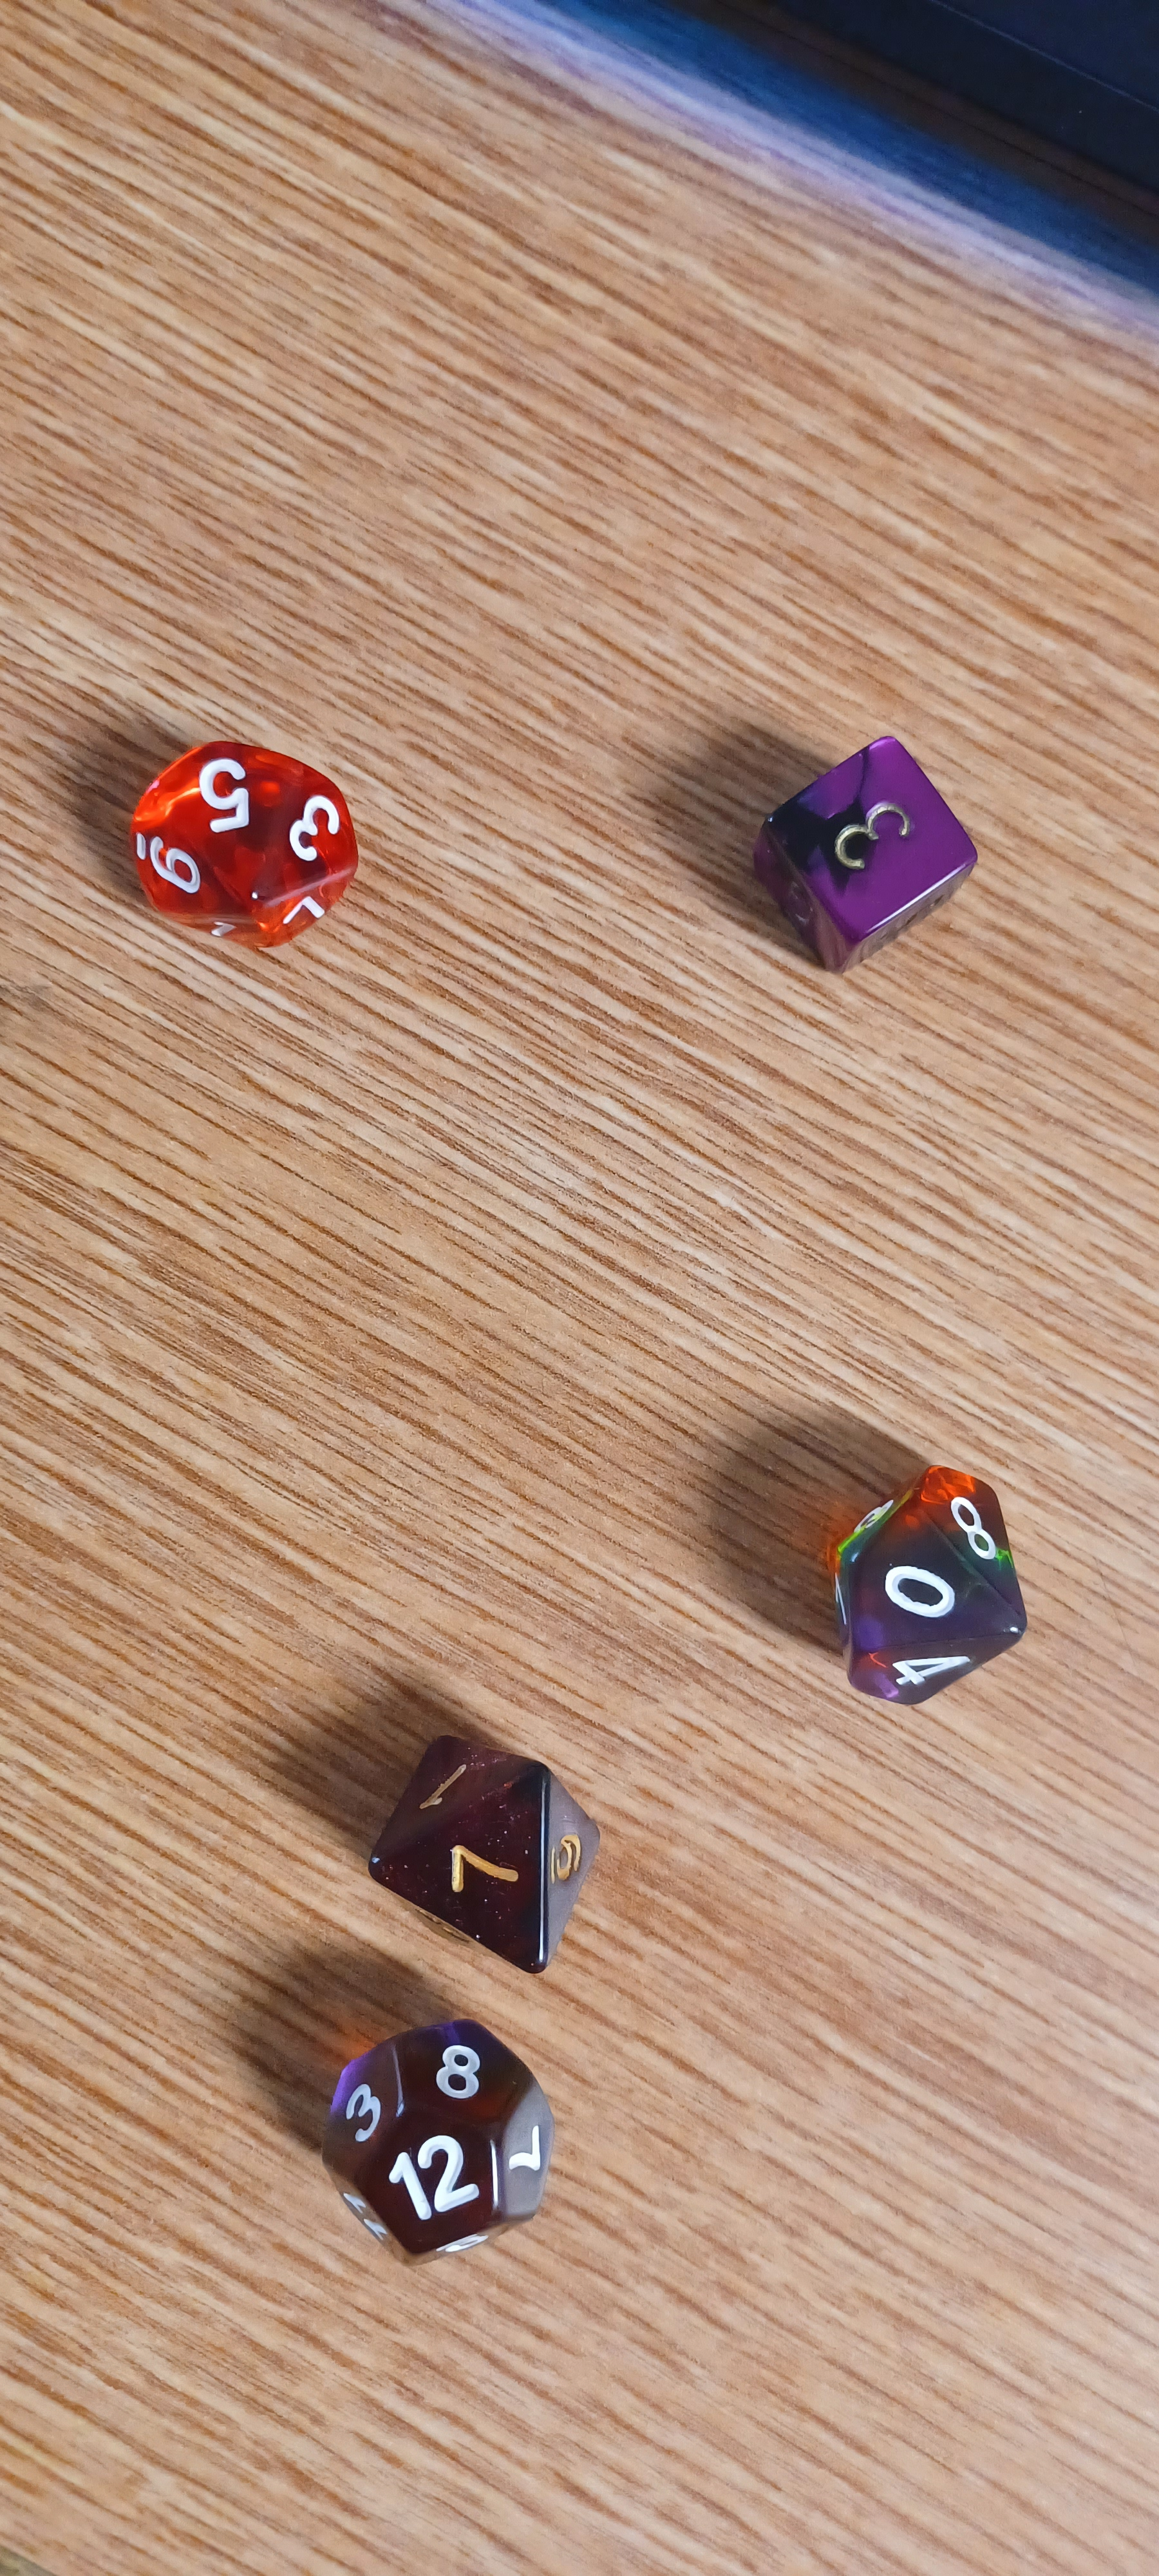five: (117, 693, 387, 991)
seven: (335, 1710, 630, 1989)
three: (749, 697, 1001, 977)
twelve: (323, 2008, 581, 2275)
zero: (791, 1444, 1051, 1722)
